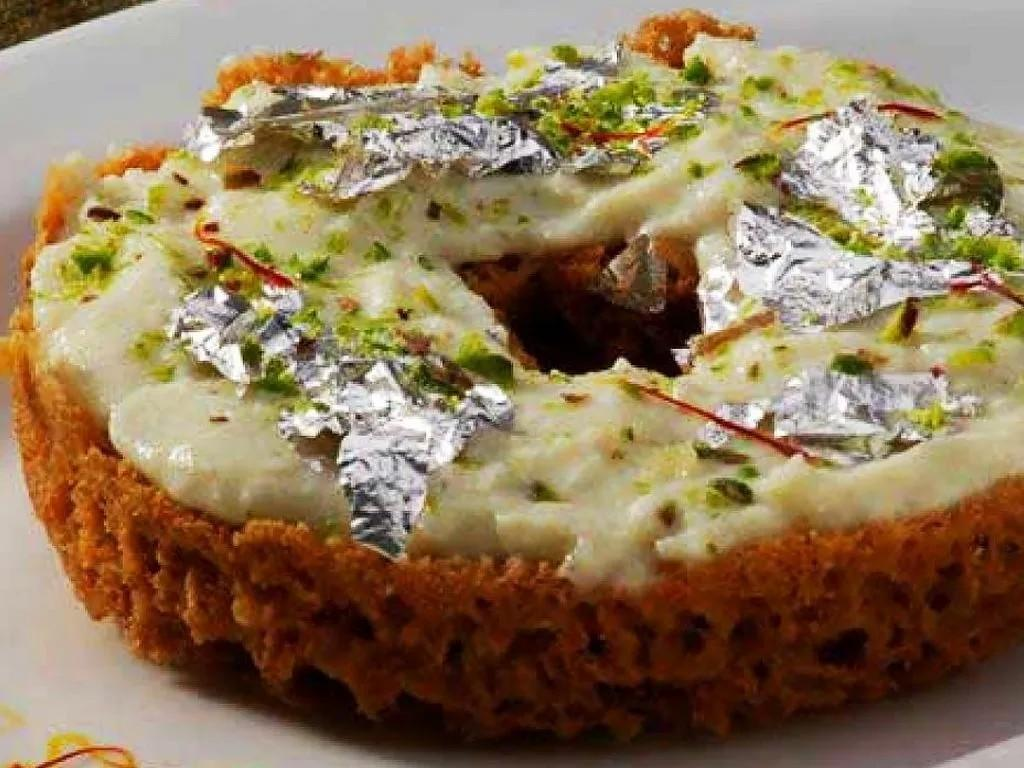Ghevar: (0, 16, 1024, 742)
